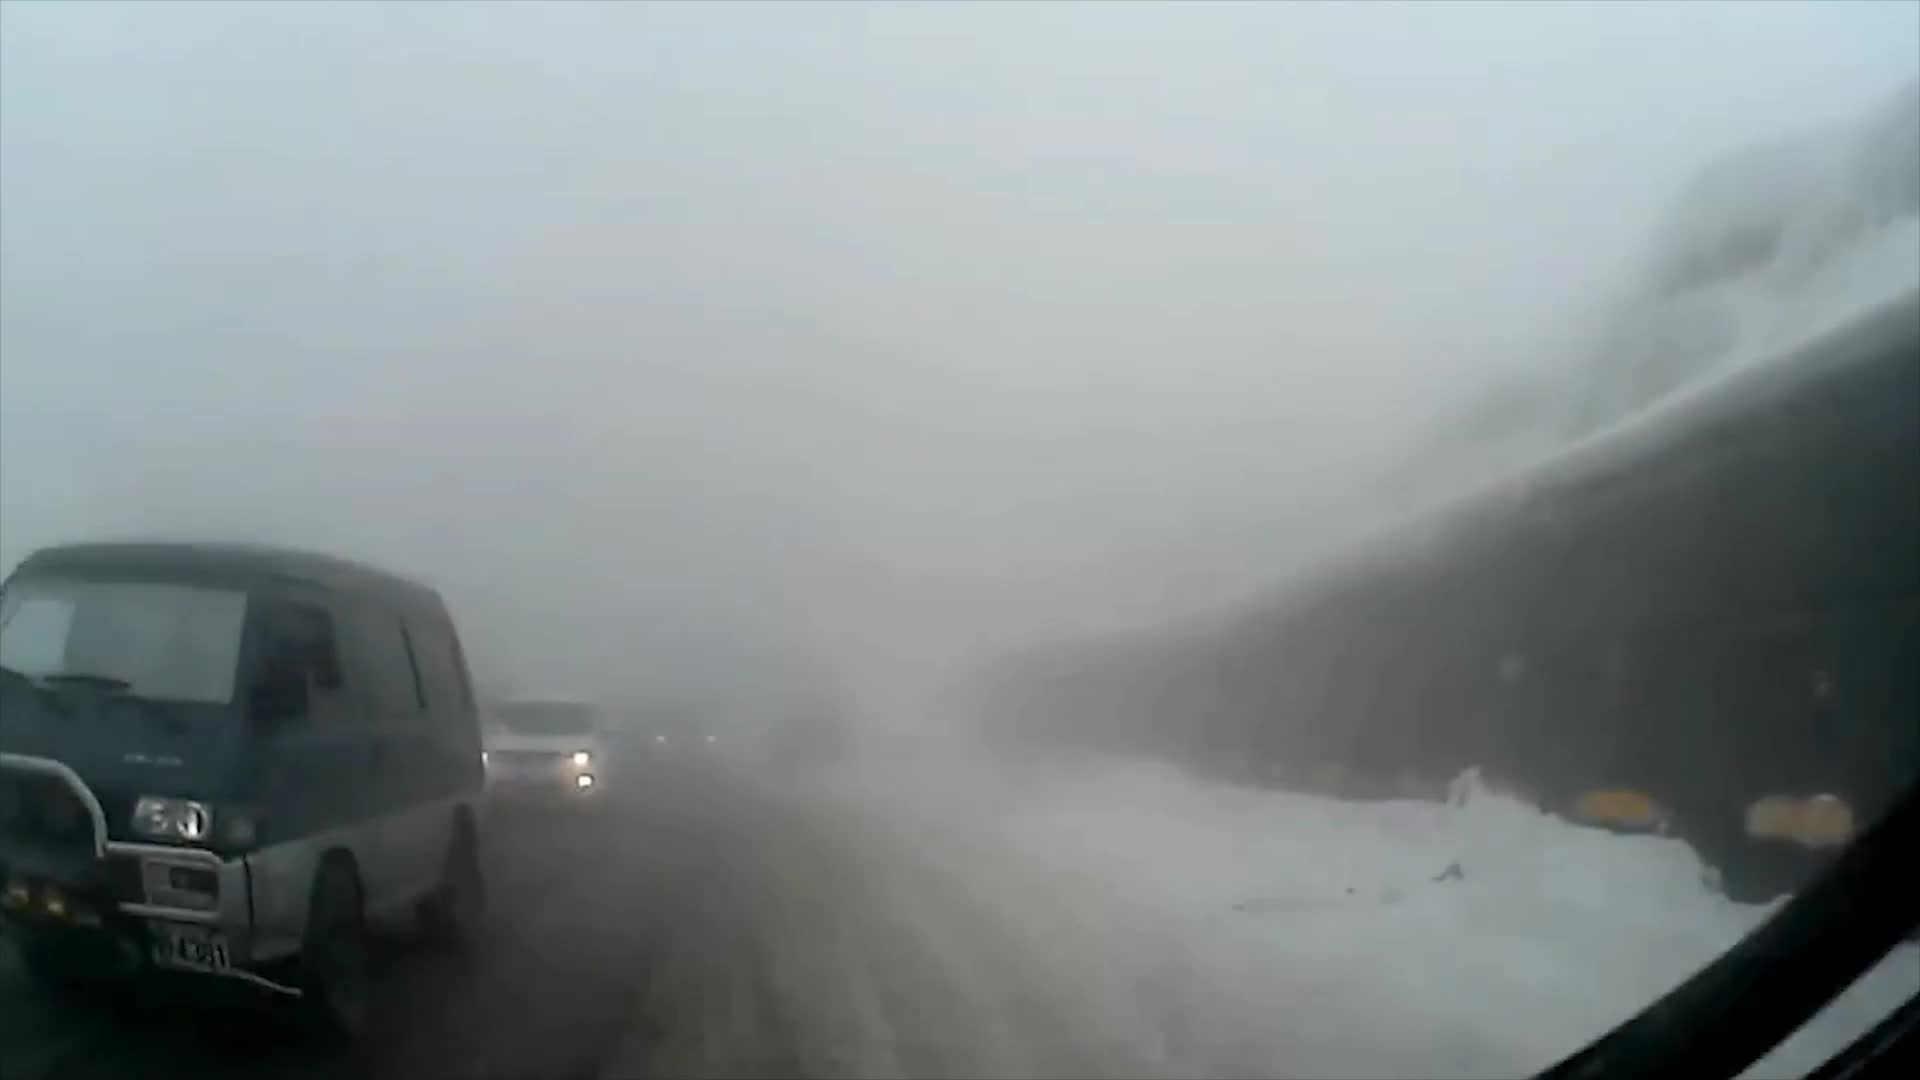vehicle: (0, 534, 495, 1044), (465, 699, 618, 823)
